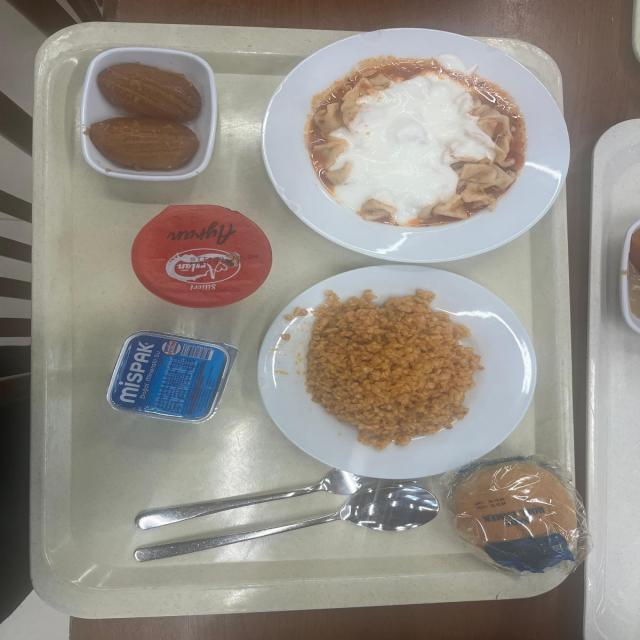ana_yemek: (261, 28, 567, 259), (256, 271, 532, 476)
yan_yemek: (78, 46, 218, 179), (618, 217, 640, 334)
